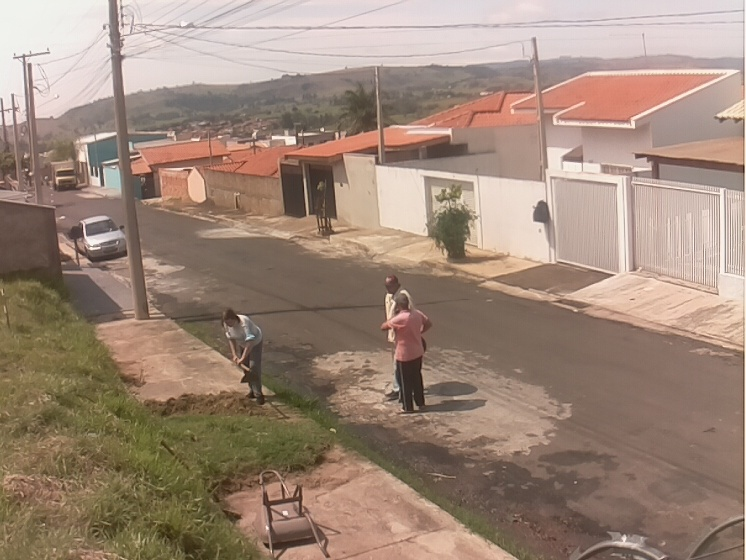person: (379, 293, 432, 416), (221, 307, 266, 406), (383, 274, 416, 319)
